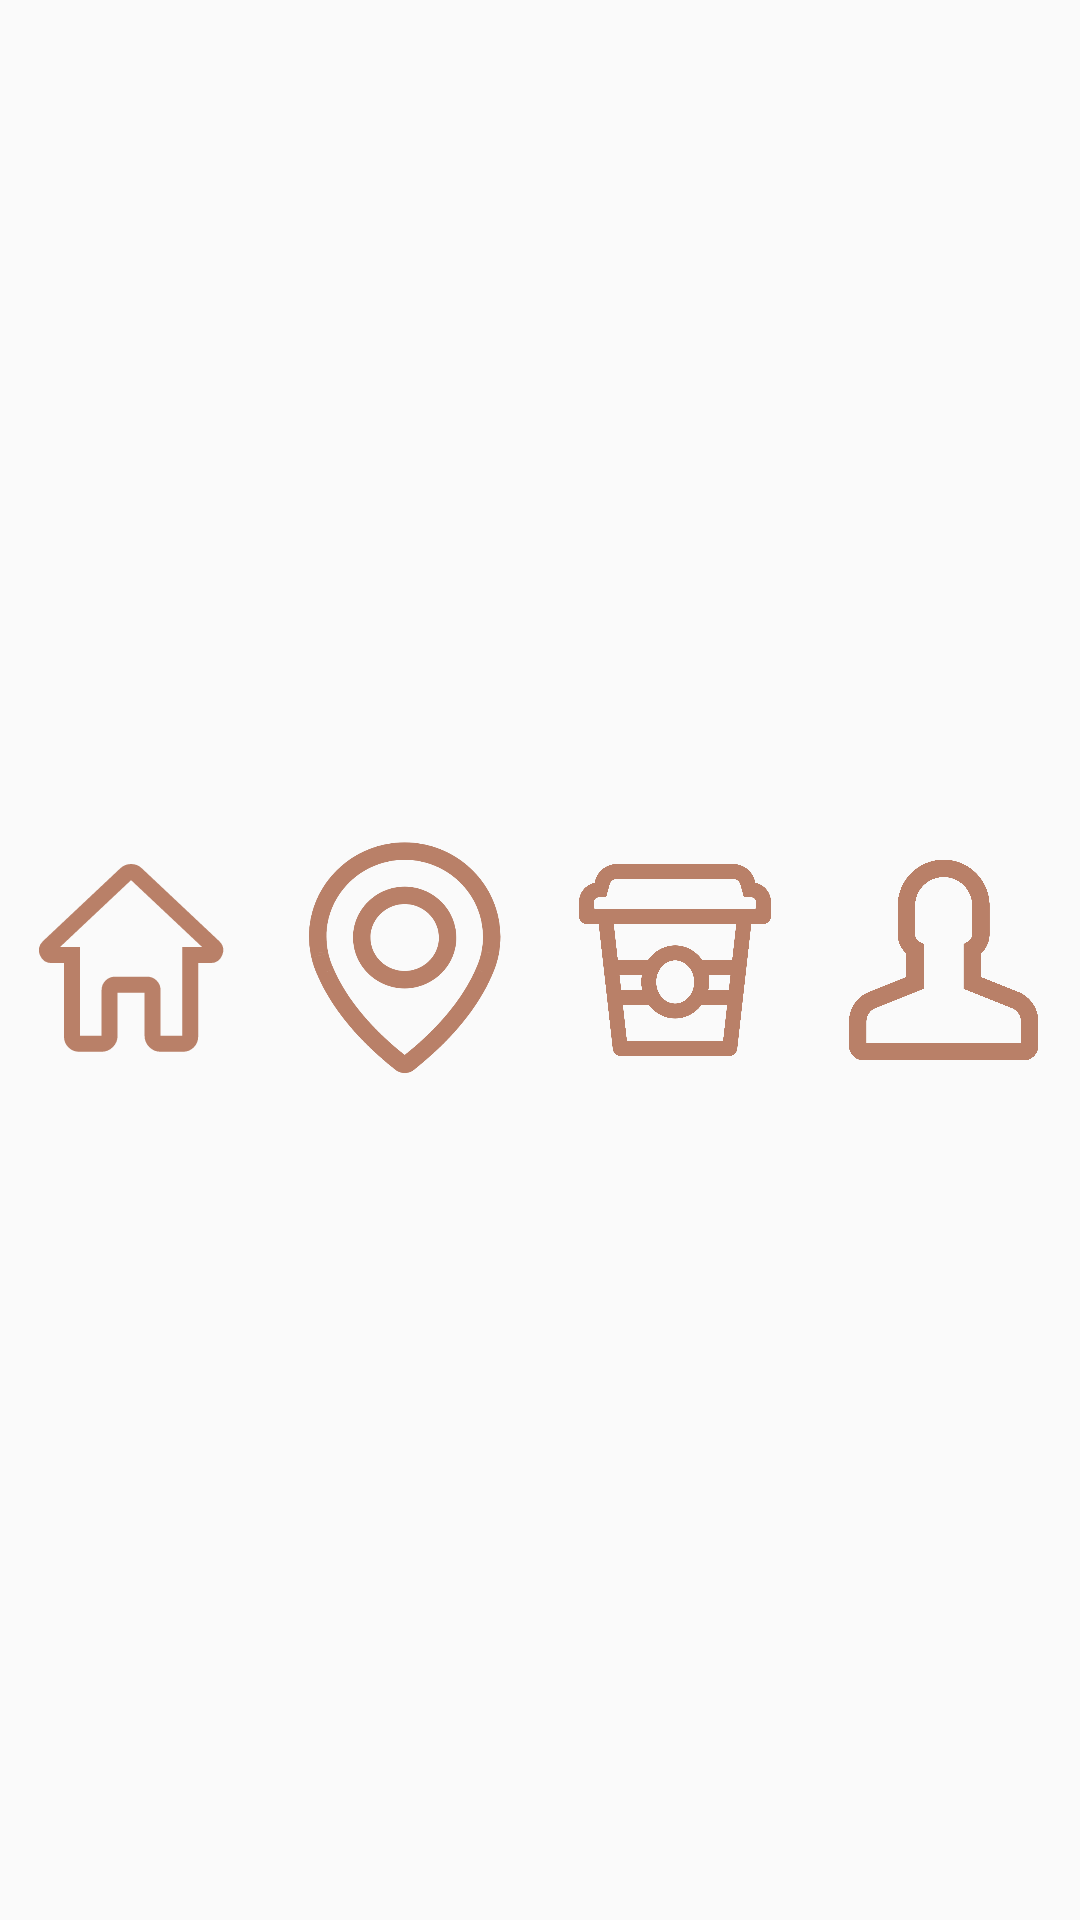

Screen size 1080w x 1920h. Icon name, then its box in pixels as [left=x1, top=y1, right=x2, bottom=y2]:
home: [left=39, top=864, right=224, bottom=1052]
locate: [left=309, top=842, right=501, bottom=1073]
profile: [left=849, top=860, right=1038, bottom=1060]
